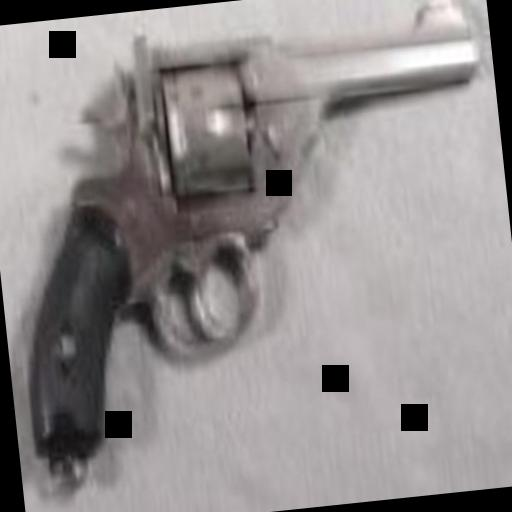Handgun: (0, 0, 512, 462)
